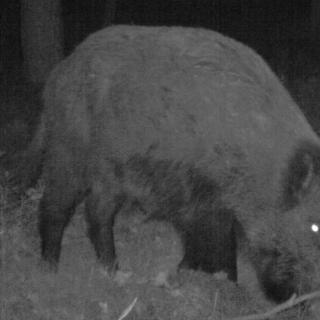Pig: (32, 11, 320, 319)
